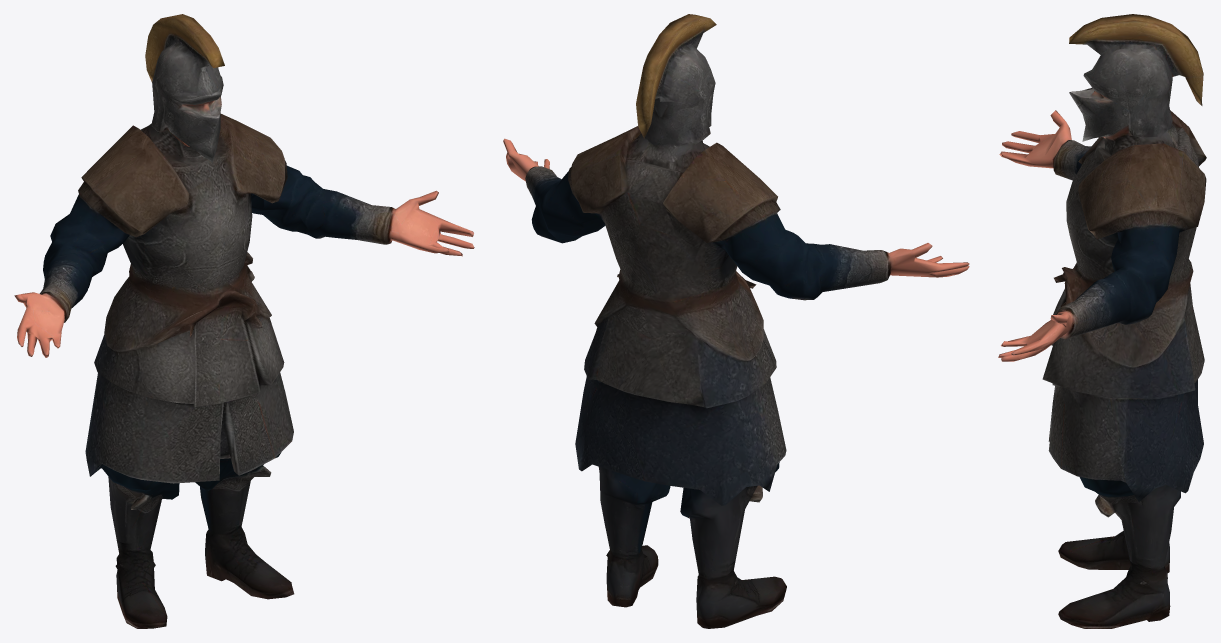
File: unit_NG_TANK.glb
3 views of the same model, side by side, from view 1: azimuth 30°, elevation 25°; view 2: azimuth 150°, elevation 25°; view 3: azimuth 270°, elevation 25° (orthographic).
Bounding box in the file's own units: 1.58 × 1.9 × 0.6237.
Materials: 1 (1 with a texture image).
